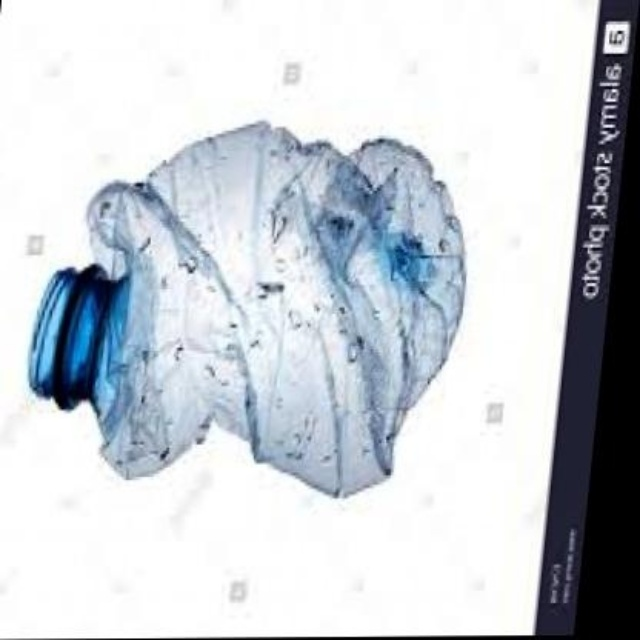trash: (29, 122, 463, 494)
